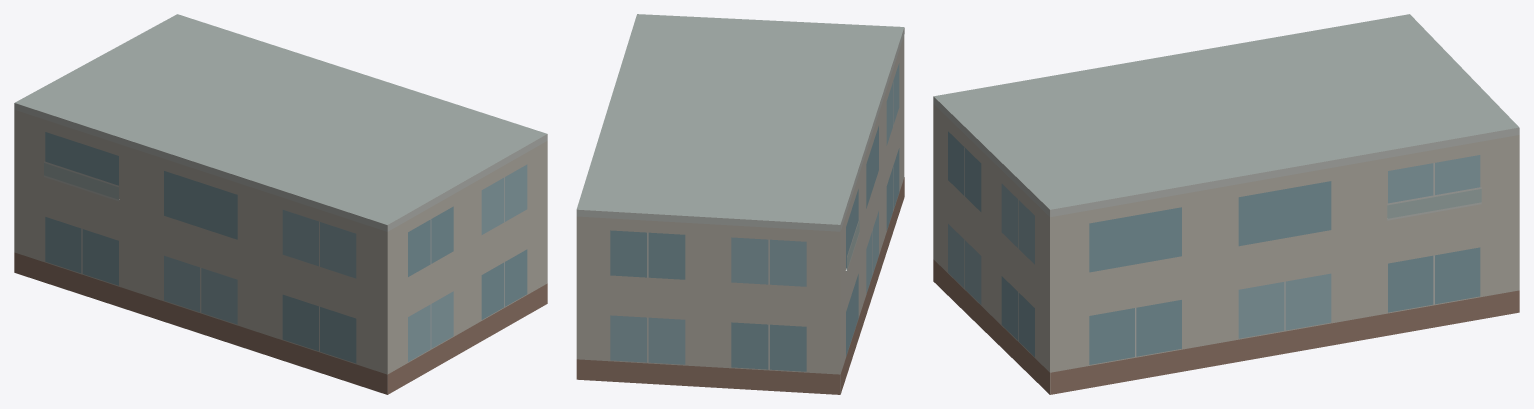
File: survey-upis-32851567.glb
3 views of the same model, side by side, from view 1: azimuth 30°, elevation 25°; view 2: azimuth 150°, elevation 25°; view 3: azimuth 270°, elevation 25° (orthographic). The views are drawn at different scales.
Parts seen in each view (by area): view 1: survey-upis-32851567.tmp; view 2: survey-upis-32851567.tmp; view 3: survey-upis-32851567.tmp.
Part boxes in pixels (x1,y1,x2,y2): survey-upis-32851567.tmp: (14,14,547,394); survey-upis-32851567.tmp: (576,14,904,394); survey-upis-32851567.tmp: (933,14,1519,394).
Bounding box in the file's own units: 13.86 × 6.1 × 17.52.
